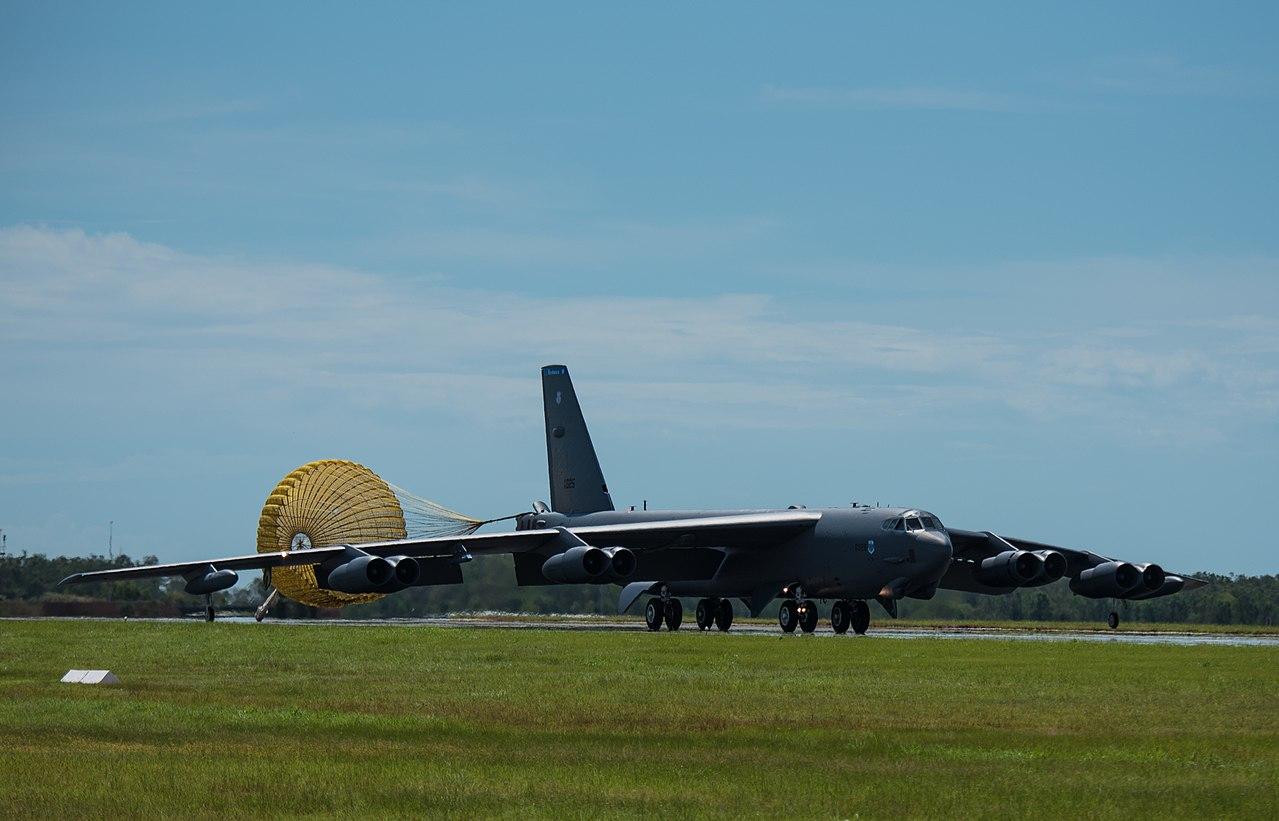B52: (55, 364, 1208, 633)
